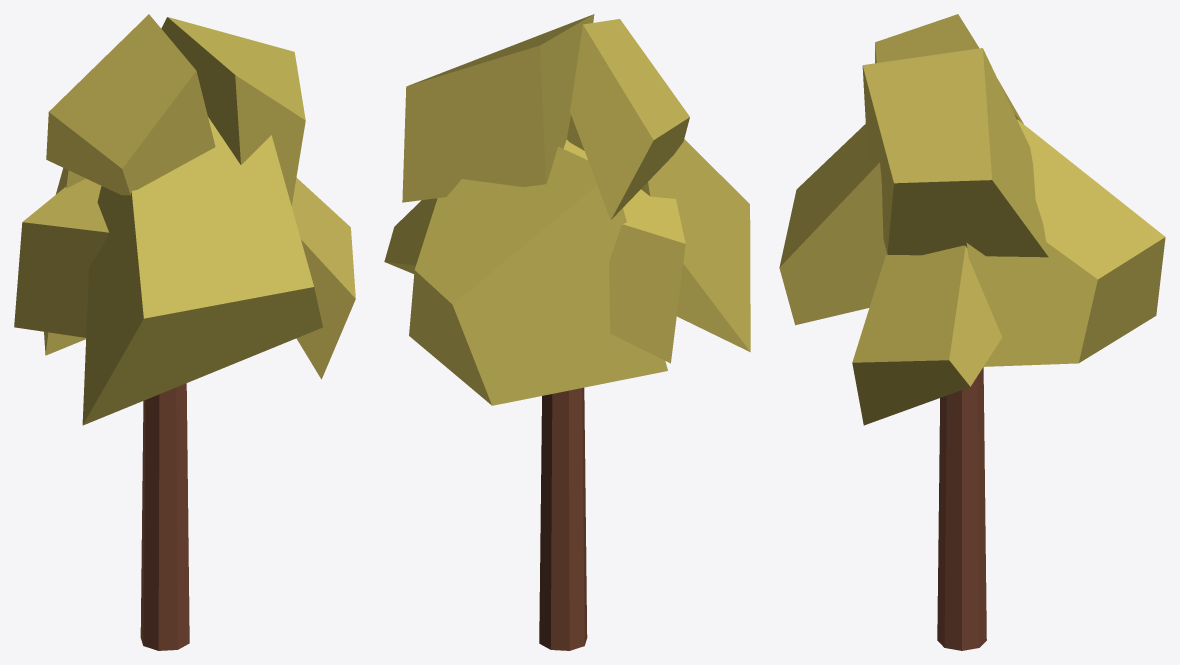
File: Tree_41_autumn_vc.fbx
The picture shows the model from 3 angles, left to right: view 1: azimuth 30°, elevation 25°; view 2: azimuth 150°, elevation 25°; view 3: azimuth 270°, elevation 25°; orthographic projection. The views are drawn at different scales.
Parts seen in each view (by area): view 1: Tree_41_autumn_vc; view 2: Tree_41_autumn_vc; view 3: Tree_41_autumn_vc.
Part boxes in pixels (box(x1,y1,x2,y2)): Tree_41_autumn_vc: box(14, 14, 355, 650); Tree_41_autumn_vc: box(384, 14, 750, 650); Tree_41_autumn_vc: box(779, 14, 1165, 650).
Bounding box in the file's own units: 120 × 229 × 130.
